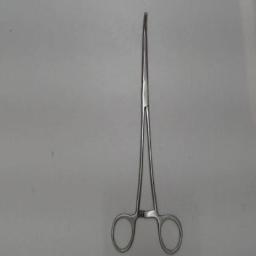Lahey Forceps: (108, 10, 184, 256)
